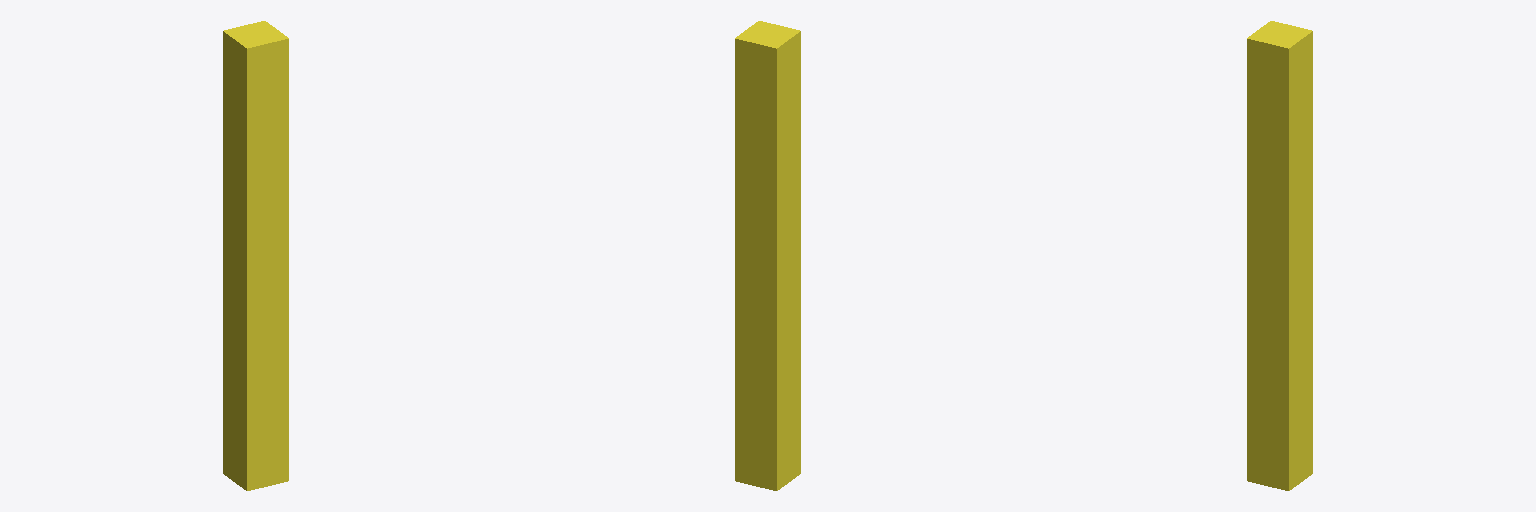
URDF robot description (drone_sim2_pkg):
<?xml version="1.0"?>
<robot name="drone_sim2_pkg">
<!-- ==================================================================== -->
  <link name="dummy_link">
    <inertial>
      <mass value="0.0"/>
      <inertia ixx="0.0" ixy="0.0" ixz="0.0" iyy="0.0" iyz="0.0" izz="0.0"/>
    </inertial>
  </link>
<!-- ==================================================================== -->
  <joint name="fixed_joint" type="fixed">
    <parent link="dummy_link"/>
    <child link="base_link"/>
  </joint>
<!-- ==================================================================== -->
  <link name="base_link">
    <origin xyz="0 0 10" rpy="0 0 0"/>
    <inertial>
      <mass value="2.0"/>
      <inertia ixx="0.021667" ixy="0.0" ixz="0.0" iyy="0.021667" iyz="0.0" izz="0.041"/>
    </inertial>
    <gravity>true</gravity>
    <visual name="base_link_vis">
      <origin xyz="0 0 .025" rpy="0 0 3.141592654"/>
      <geometry>
        <mesh filename="package://drone_sim2_pkg/meshes/NXP-HGD-CF.dae" />
      </geometry>
    </visual>
<!-- ==================================================================== -->
    <collision name="base_link_collision_0">
      <origin xyz="0 0 -0.115" rpy="0 0 0"/>
      <geometry>
        <box size="0.35355339059327373 0.35355339059327373 0.25"/>
      </geometry>
    </collision>
  </link>
<!-- ==================================================================== -->
  <gazebo reference="base_link">
    <sensor name="imu_sensor" type="imu">
      <always_on>1</always_on>
      <update_rate>10</update_rate>
      <visualize>true</visualize>
      <topic>imu</topic>
      <ignition_frame_id>base_link</ignition_frame_id>
    </sensor>
  </gazebo>
<!-- ==================================================================== -->
  <link name="rotor_0">
    <origin xyz="0.174 -0.174 0.06" rpy="0 0 0"/>
    <inertial>
      <mass value="0.016076923076923075"/>
      <inertia ixx="3.85e-07" ixy="0.0" ixz="0.0" iyy="2.61e-05" iyz="0.0" izz="2.64e-05"/>
    </inertial>
    <visual name="rotor_0_visual">
      <origin xyz="-0.022 -0.175 -0.016" rpy="0 0 0"/>
      <geometry>
        <mesh filename="package://drone_sim2_pkg/meshes/1345_prop_ccw.stl" />
        <scale>0.8461538461538461 0.8461538461538461 0.8461538461538461</scale>
      </geometry>
    </visual>
    <!-- <collision name="rotor_0_collision">
      <origin xyz="0 0 0" rpy="0 0 1.57"/>
      <geometry>
        <box size="0.2792307692307692 0.016923076923076923 0.0008461538461538462"/>
      </geometry>
    </collision> -->
  </link>
<!-- ==================================================================== -->
  <joint name="rotor_0_joint" type="continuous">
    <parent link="base_link"/>
    <child link="rotor_0"/>
    <origin xyz="0.174 -0.174 0.06" rpy="0 0 0"/>
    <axis xyz="0 0 1"/>
  </joint>
<!-- ==================================================================== -->
   <!-- Link definitions -->
  <link name="rod_0">
      <visual>
          <origin xyz="0 0 0" rpy="0 0 0"/> 
          <geometry>
              <box size="0.005 0.005 0.05"/>
          </geometry>
      </visual>
  </link>
<!-- ==================================================================== -->
  <link name="blade_1">
  
    <inertial>
      <origin xyz="0 0 0" rpy="0 0 0"/>
      <mass value="0.001"/>
      <inertia ixx="0.0000465" ixy="0.0" ixz="0.0" iyy="0.0000006" iyz="0.0" izz="0.0000470"/>
    </inertial>
    <collision>
      <origin xyz="0 -0.1 0" rpy="0 0 1.57"/>
      <geometry>
        <box size="0.20 0.017 0.0008"/>
      </geometry>
    </collision>
  </link>
<!-- ==================================================================== -->
  <link name="blade_2">
    <inertial>
      <origin xyz="0 0 0" rpy="0 0 0"/>
      <mass value="0.01"/>
      <inertia ixx="0.0000465" ixy="0.0" ixz="0.0" iyy="0.0000006" iyz="0.0" izz="0.0000470"/>
    </inertial>
    <collision>
      <origin xyz="0 0 1.5" rpy="0 0 3.141593"/>
      <geometry>
        <box size="0.2 1.0 0.01"/>
      </geometry>
    </collision>
  </link>
<!-- ==================================================================== -->
  <!-- Joint definitions -->
  <joint name="rod_0_joint" type="revolute">
      <parent link="base_link"/>
      <child link="rod_0"/>
      <origin xyz="0.18 -0.174 0.06" rpy="0 0 0"/>
      <axis xyz="0.0 0.0 -1.0"/>
      <limit lower="-1.0" upper="1.0" effort="100" velocity="10"/> <!-- Adjusted limits -->
      <dynamics damping="0.0001"/>
  </joint>

<!-- ==================================================================== -->
  <joint name="blade_1_joint" type="fixed">
    <parent link="rod_0"/>
    <child link="blade_1"/>
    <origin xyz="0.0 0.0 0.0" rpy="0.0 0.0 0.0"/>
  </joint>
<!-- ==================================================================== -->
  <joint name="blade_2_joint" type="fixed">
    <parent link="rod_0"/>
    <child link="blade_2"/>
    <origin xyz="0.0 0.0 0.0" rpy="0.0 0.0 0.0"/>
  </joint>
<!-- ............................................................................. -->
  <!-- Rotor 1 -->
  <link name="rotor_1">
    <origin xyz="-0.174 0.174 0.06" rpy="0 0 0"/>
    <inertial>
      <mass value="0.016"/>
      <inertia ixx="3.85e-07" ixy="0.0" ixz="0.0" iyy="2.61e-05" iyz="0.0" izz="2.64e-05"/>
    </inertial>
    <visual name="rotor_1_visual">
      <origin xyz="-0.022 -0.175 -0.016" rpy="0 0 0"/>
      <geometry>
        <mesh filename="package://drone_sim2_pkg/meshes/1345_prop_ccw.stl"/>
        <scale>0.846 0.846 0.846</scale>
      </geometry>
    </visual>
    <collision name="rotor_1_collision">
      <origin xyz="0 0 0" rpy="0 0 1.57"/>
      <geometry>
        <box size="0.279 0.016 0.000846"/>
      </geometry>
    </collision>
  </link>
<!-- ==================================================================== -->
  <joint name="rotor_1_joint" type="continuous">
    <parent link="base_link"/>
    <child link="rotor_1"/>
    <origin xyz="-0.174 0.174 0.06" rpy="0 0 0"/>
    <axis xyz="0 0 1"/>
  </joint>
<!-- ==================================================================== -->
  <!-- Rotor 2 -->
  <link name="rotor_2">
    <origin xyz="0.174 0.174 0.06" rpy="0 0 0"/>
    <inertial>
      <mass value="0.016"/>
      <inertia ixx="3.85e-07" ixy="0.0" ixz="0.0" iyy="2.61e-05" iyz="0.0" izz="2.64e-05"/>
    </inertial>
    <visual name="rotor_2_visual">
      <origin xyz="-0.022 -0.175 -0.016" rpy="0 0 0"/>
      <geometry>
        <mesh filename="package://drone_sim2_pkg/meshes/1345_prop_cw.stl"/>
        <scale>0.846 0.846 0.846</scale>
      </geometry>
    </visual>
    <collision name="rotor_2_collision">
      <origin xyz="0 0 0" rpy="0 0 1.57"/>
      <geometry>
        <box size="0.279 0.016 0.000846"/>
      </geometry>
    </collision>
  </link>
<!-- ==================================================================== -->
  <joint name="rotor_2_joint" type="continuous">
    <parent link="base_link"/>
    <child link="rotor_2"/>
    <origin xyz="0.174 0.174 0.06" rpy="0 0 0"/>
    <axis xyz="0 0 1"/>
  </joint>
<!-- ==================================================================== -->
  <!-- Rotor 3 -->
  <link name="rotor_3">
    <origin xyz="-0.174 -0.174 0.06" rpy="0 0 0"/>
    <inertial>
      <mass value="0.016"/>
      <inertia ixx="3.85e-07" ixy="0.0" ixz="0.0" iyy="2.61e-05" iyz="0.0" izz="2.64e-05"/>
    </inertial>
    <visual name="rotor_3_visual">
      <origin xyz="-0.022 -0.175 -0.016" rpy="0 0 0"/>
      <geometry>
        <mesh filename="package://drone_sim2_pkg/meshes/1345_prop_cw.stl"/>
        <scale>0.846 0.846 0.846</scale>
      </geometry>
    </visual>
    <collision name="rotor_3_collision">
      <origin xyz="0 0 0" rpy="0 0 1.57"/>
      <geometry>
        <box size="0.279 0.016 0.000846"/>
      </geometry>
    </collision>
  </link>
<!-- ==================================================================== -->
  <joint name="rotor_3_joint" type="continuous">
    <parent link="base_link"/>
    <child link="rotor_3"/>
    <origin xyz="-0.174 -0.174 0.06" rpy="0 0 0"/>
    <axis xyz="0 0 1"/>
  </joint>
  <!-- ==================================================================== -->
<!-- ..................GAZEBO SENSORS AND PLUGINS ............................................. -->
  <gazebo>
        <plugin filename="ignition-gazebo-sensors-system" name="ignition::gazebo::systems::Sensors">
            <render_engine>ogre2</render_engine>
        </plugin>

        <plugin filename="ignition-gazebo-imu-system" name="ignition::gazebo::systems::Imu">
        </plugin>

        <plugin filename="ignition-gazebo-joint-state-publisher-system" name="ignition::gazebo::systems::JointStatePublisher">
        </plugin>
        <plugin
        filename="ignition-gazebo-scene-broadcaster-system"
        name="gz::sim::systems::SceneBroadcaster">
        </plugin>
        <plugin
        filename="ignition-gazebo-user-commands-system"
        name="gz::sim::systems::UserCommands">
        </plugin>
        <plugin
          filename="ignition-gazebo-contact-system"
          name="gz::sim::systems::Contact">
        </plugin>

        <plugin filename="libignition-gazebo6-odometry-publisher-system"
            name="ignition::gazebo::systems::OdometryPublisher">
            <odom_frame>odom</odom_frame>
            <robot_base_frame>base_link</robot_base_frame>
            <odom_topic>odom</odom_topic>
            <tf_topic>/tf</tf_topic>
            <dimensions>3</dimensions>
            <odom_publish_frequency>10</odom_publish_frequency>
        </plugin>
  </gazebo>
  <!-- ==================================================================== -->
</robot>

--- Facts derived from the render (not from the file) ---
Views: 3 orthographic renders of the robot side by side, from view 1: azimuth 30°, elevation 25°; view 2: azimuth 150°, elevation 25°; view 3: azimuth 330°, elevation 25°.
Model drone_sim2_pkg with 9 links and 8 joints (1 revolute, 4 continuous, 3 fixed), rooted at dummy_link, posed all joints at 0.
Links seen in each view (by area): view 1: rod_0; view 2: rod_0; view 3: rod_0.
Link boxes in pixels (x1,y1,x2,y2): rod_0: (223,21,288,490); rod_0: (735,21,800,490); rod_0: (1247,21,1312,490).
Bounding box of the posed robot: 0.005 × 0.005 × 0.05 m (x, y, z).
Meshes: 3 distinct files referenced, 0 mesh visuals loaded (none loaded); not drawn: 5 (reference not matched to a file when rendering).